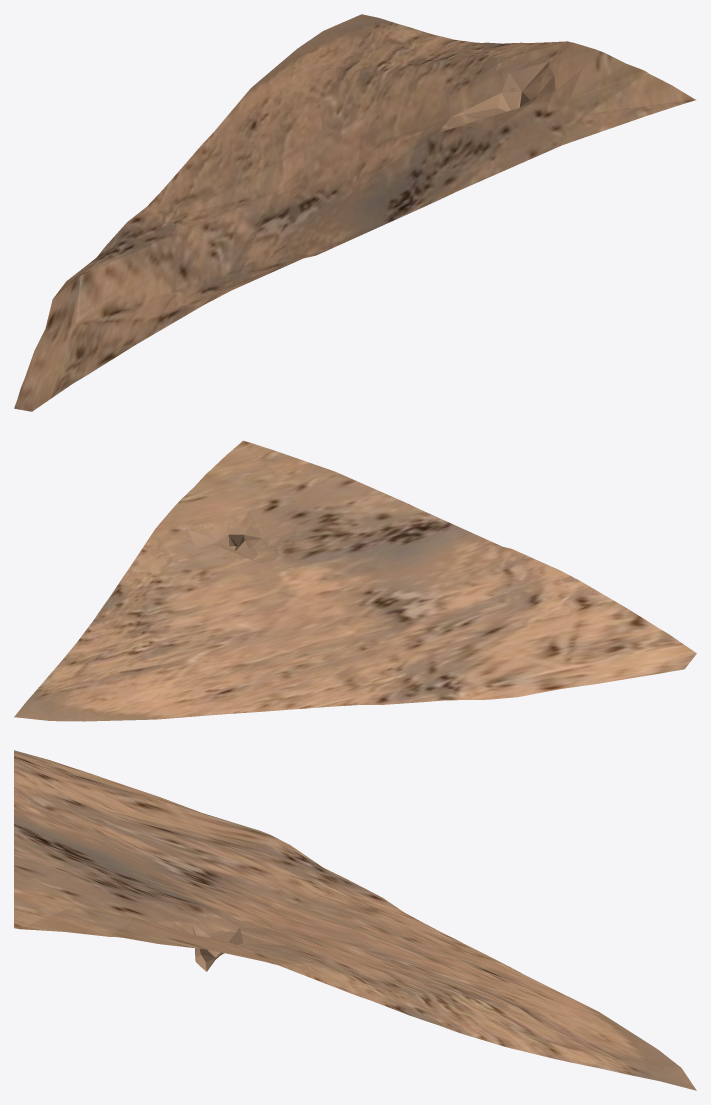
3 views of the same model, one above another, from view 1: azimuth 30°, elevation 25°; view 2: azimuth 150°, elevation 25°; view 3: azimuth 270°, elevation 25° (orthographic). The views are drawn at different scales.
Size of the model in its own units: 1.04 by 0.2398 by 0.9123.
2 materials, 2 textured.
